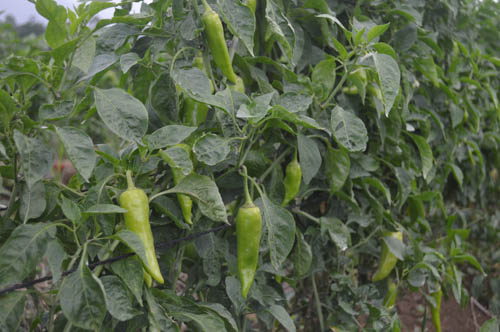ChiliPepper: (121, 191, 167, 283), (234, 206, 263, 295), (204, 14, 237, 83), (372, 229, 403, 277), (285, 162, 302, 203)
